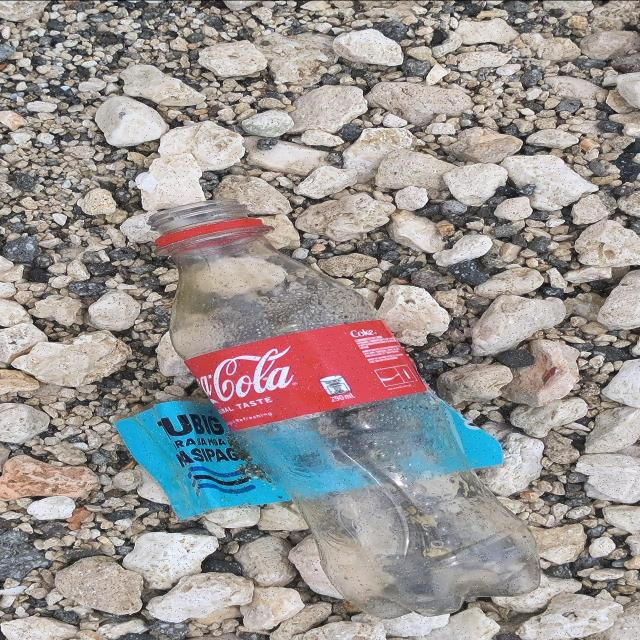plastic_waste: (149, 199, 542, 621)
